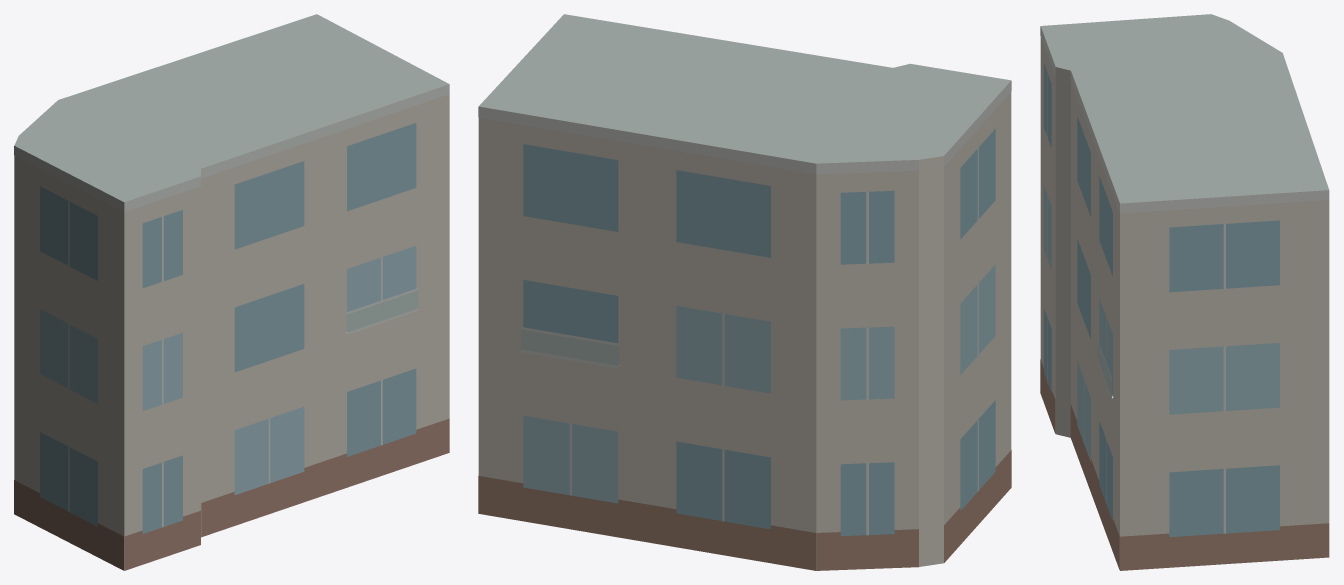
The model's file is survey-upis-32678152.glb.
3 renders of one model, left to right at view 1: azimuth 30°, elevation 25°; view 2: azimuth 150°, elevation 25°; view 3: azimuth 270°, elevation 25°, orthographic. The views are drawn at different scales.
Visible parts, largest first — view 1: survey-upis-32678152.tmp; view 2: survey-upis-32678152.tmp; view 3: survey-upis-32678152.tmp.
Part boxes in pixels (<box>): survey-upis-32678152.tmp: <box>14,14,449,570</box>; survey-upis-32678152.tmp: <box>478,14,1011,570</box>; survey-upis-32678152.tmp: <box>1040,14,1329,570</box>.
Size of the model in its own units: 10.13 by 9.15 by 6.53.
